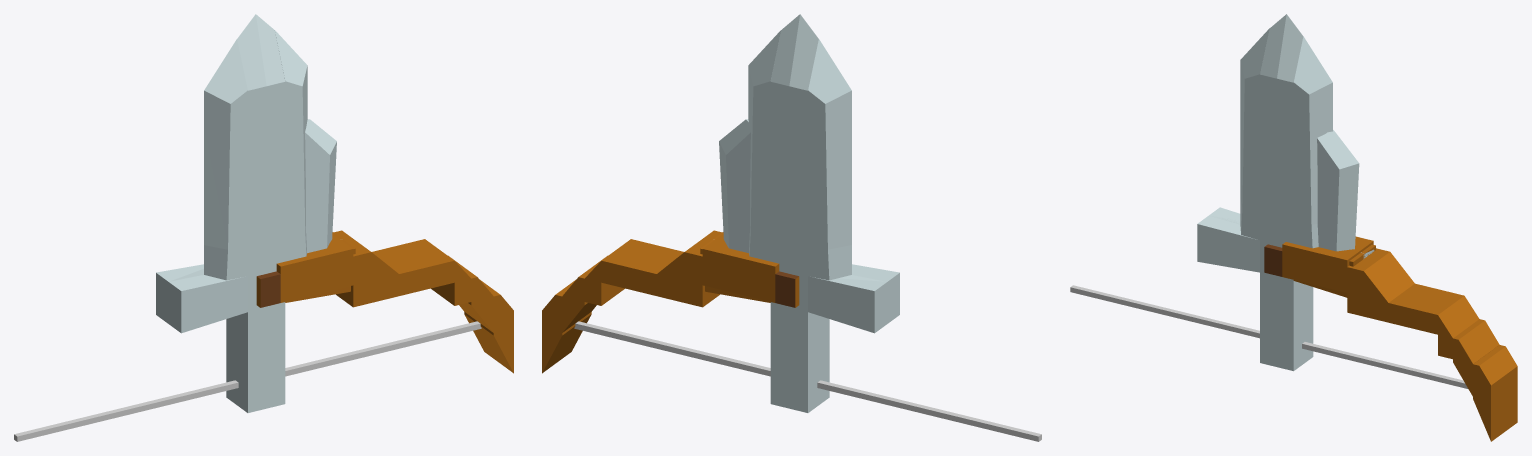
Rendered from bow.gltf.
3 views of the same model, side by side, from view 1: azimuth 30°, elevation 25°; view 2: azimuth 150°, elevation 25°; view 3: azimuth 330°, elevation 25° (orthographic). The views are drawn at different scales.
Visible parts, largest first — view 1: Cube.001, Cube.002, Cube.003, Cube; view 2: Cube.001, Cube.002, Cube.003, Cube; view 3: Cube.001, Cube.002, Cube, Cube.003.
Part boxes in pixels (x1,y1,x2,y2): Cube.001: [156, 14, 355, 412]; Cube.002: [256, 230, 513, 373]; Cube.003: [14, 321, 481, 441]; Cube: [305, 119, 336, 253]; Cube.001: [700, 14, 899, 412]; Cube.002: [542, 230, 799, 373]; Cube.003: [574, 321, 1041, 441]; Cube: [719, 119, 750, 253]; Cube.001: [1197, 14, 1375, 371]; Cube.002: [1264, 236, 1517, 441]; Cube: [1317, 130, 1359, 251]; Cube.003: [1070, 285, 1468, 389].
Size of the model in its own units: 7.71 by 6.22 by 0.8186.
